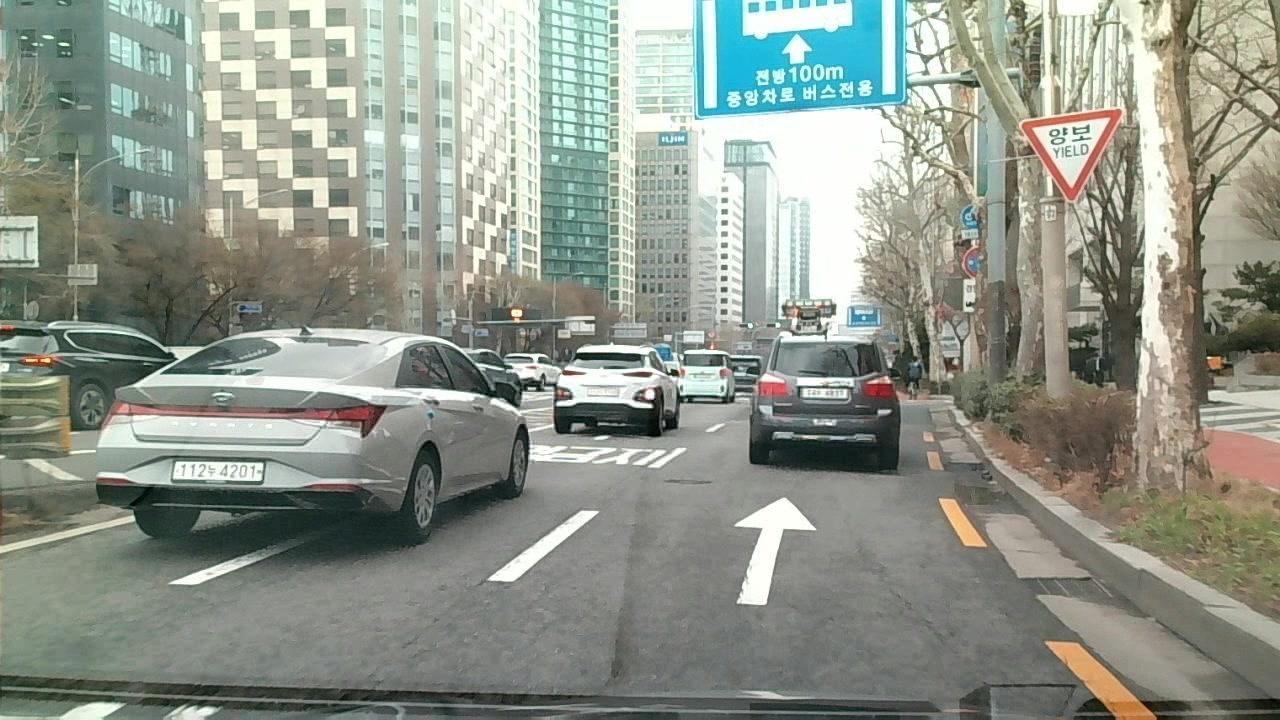vcrack: (328, 575, 485, 696), (874, 574, 940, 640), (589, 579, 629, 687)
